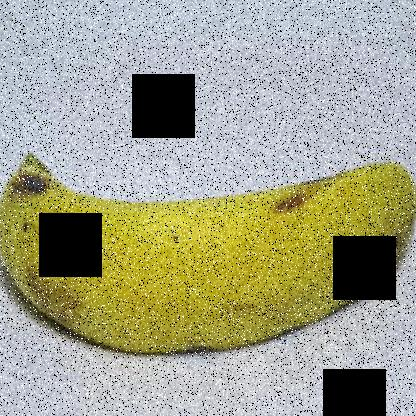freshripe: (1, 125, 415, 377)
